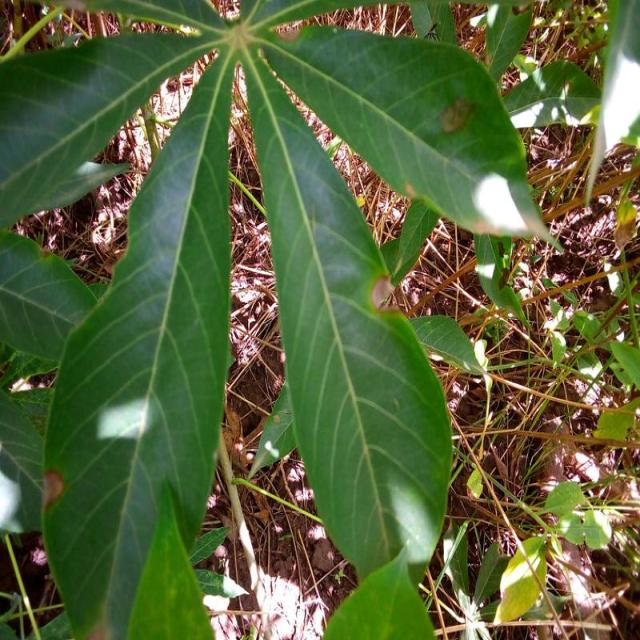cassava leaf: (2, 1, 560, 637), (238, 37, 454, 591), (39, 43, 234, 638), (258, 22, 564, 252)
